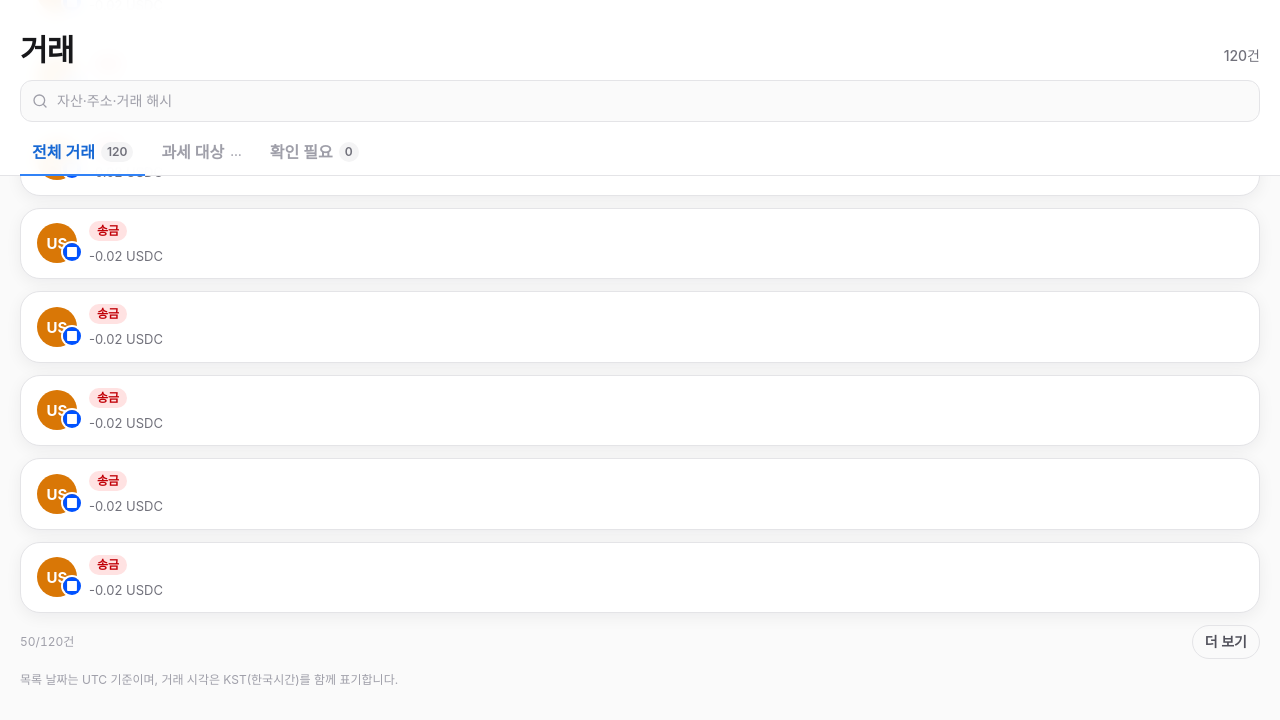
Test: 목록은 창으로 잘라 그린다 › 「더 보기」로 50줄씩 늘고, 끝에 닿으면 버튼도 감시 대상도 사라진다
(page scrolled)
Click the button "더 보기" at point(1226, 642), box top-left (1192, 625), bottom-right (1260, 659)
(page scrolled)
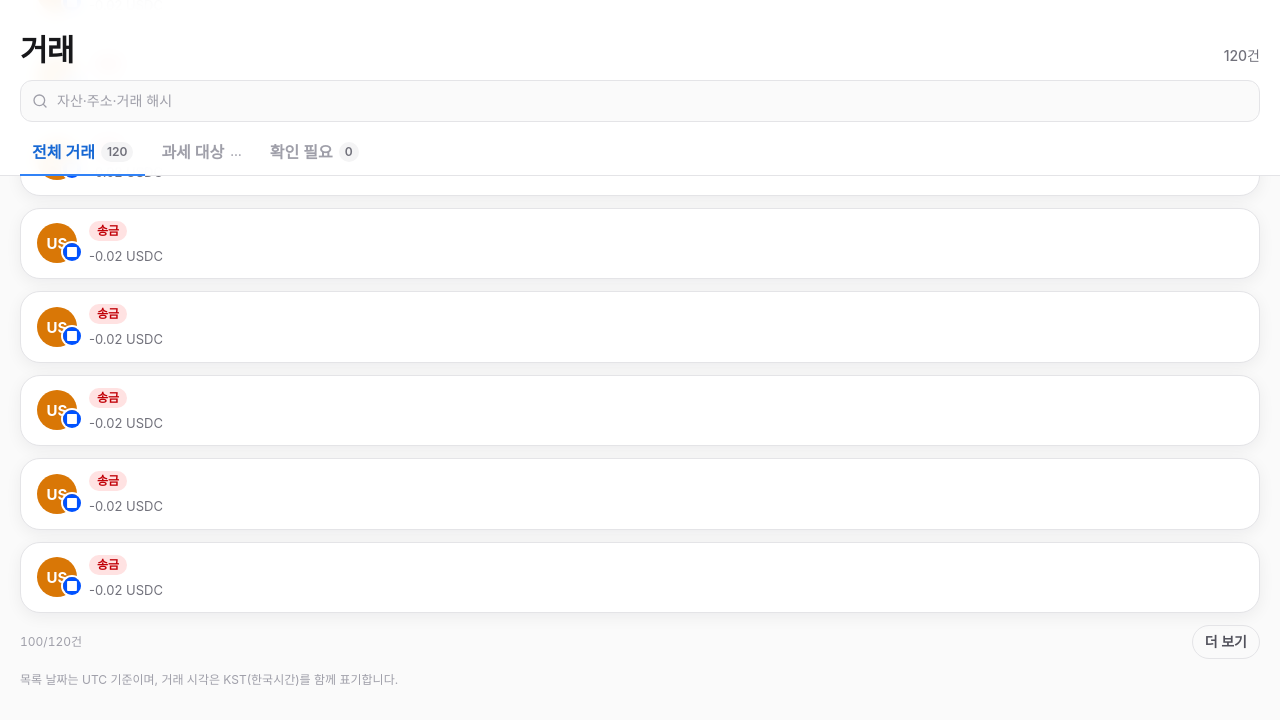
Now the element showing "100/120건 더 보기" is shown, box top-left (20, 625), bottom-right (1260, 659)
Click the button "더 보기" at point(1226, 642), box top-left (1192, 625), bottom-right (1260, 659)
(page scrolled)
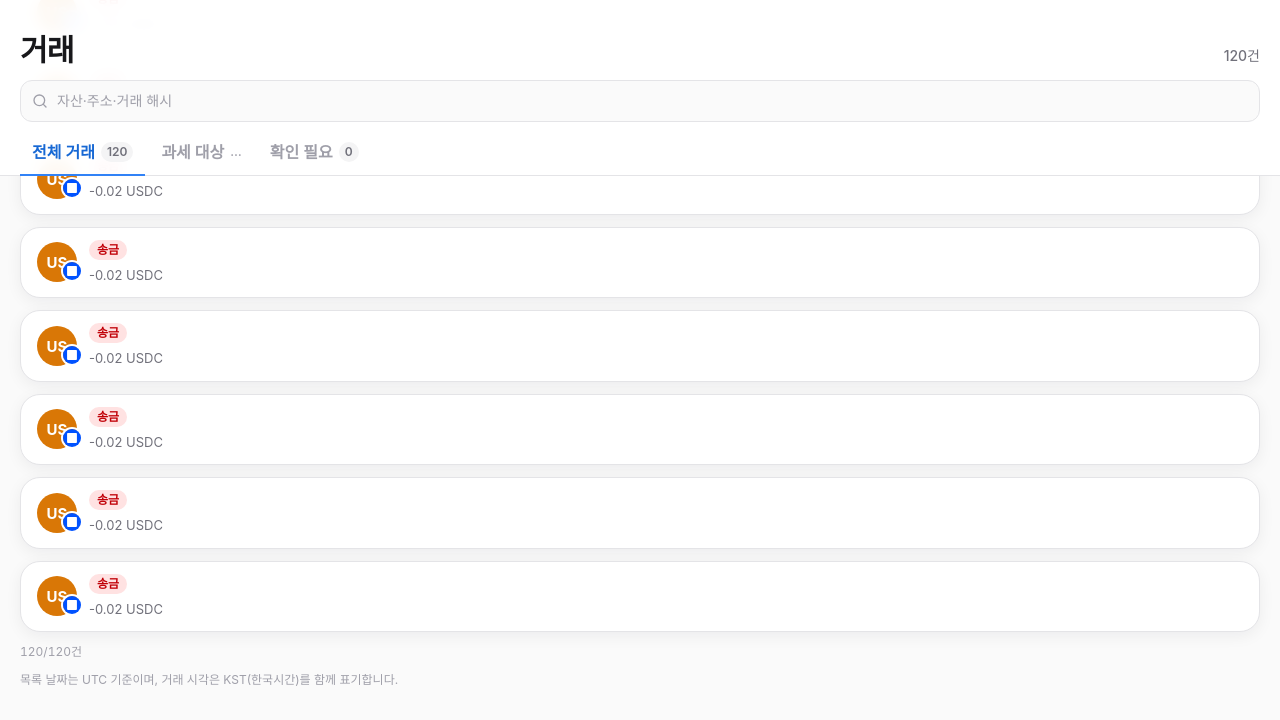
Now the text "120/120건" is shown, box top-left (20, 644), bottom-right (82, 660)
Now the button "더 보기" is gone
